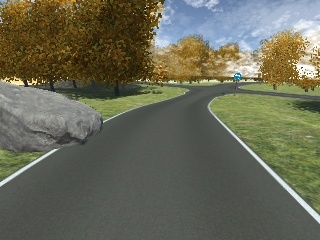Stone: (1, 75, 104, 154)
